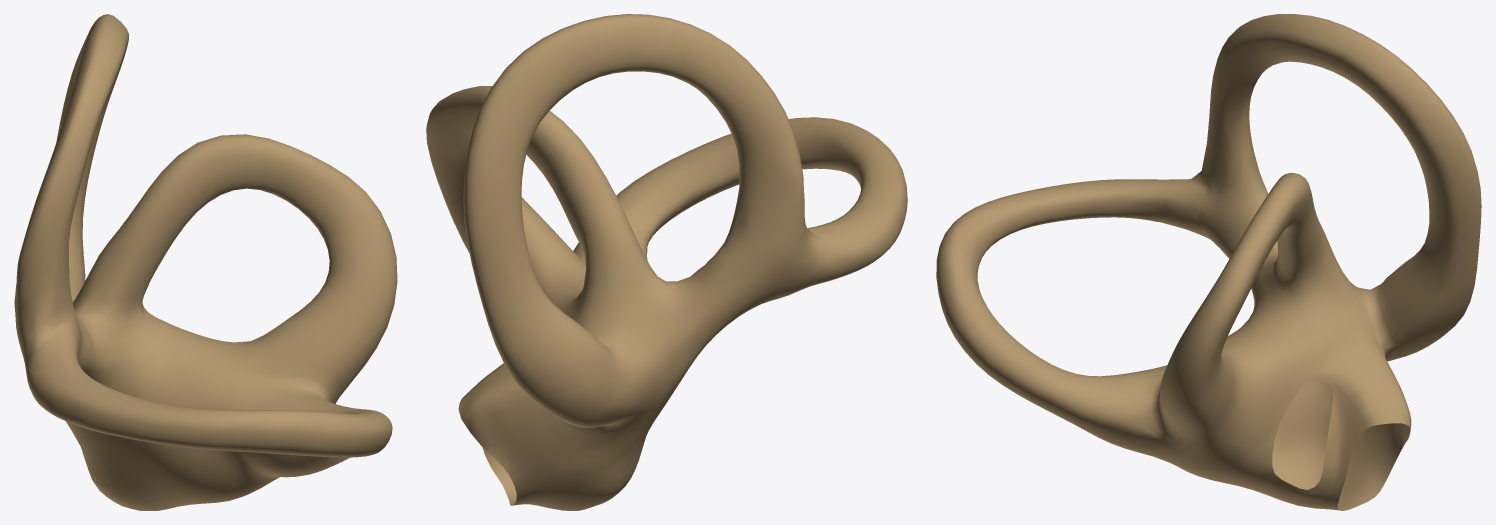
The picture shows the model from 3 angles, left to right: view 1: azimuth 30°, elevation 25°; view 2: azimuth 150°, elevation 25°; view 3: azimuth 270°, elevation 25°; orthographic projection. The views are drawn at different scales.
Parts seen in each view (by area): view 1: 左侧前庭; view 2: 左侧前庭; view 3: 左侧前庭.
Part boxes in pixels (x1,y1,x2,y2): 左侧前庭: (14,14,397,510); 左侧前庭: (426,14,907,510); 左侧前庭: (936,14,1481,510).
Bounding box in the file's own units: 0.0151 × 0.0177 × 0.0189.
